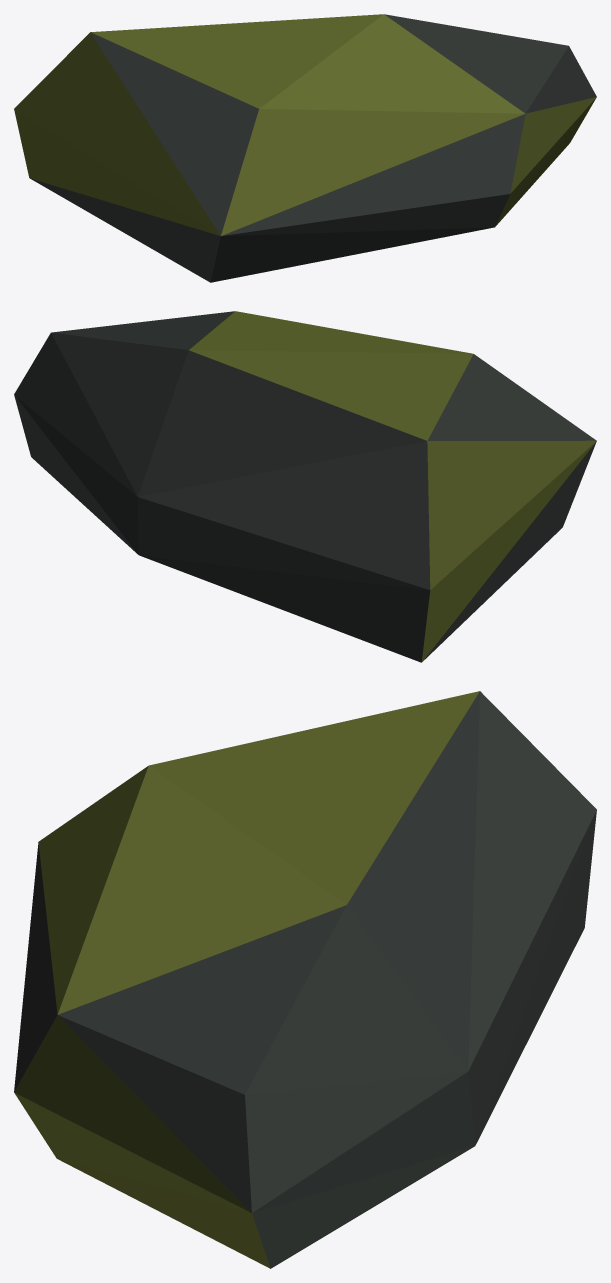
The model's file is ore_uranium_v02_lod2.glb.
3 renders of one model, top to bottom at view 1: azimuth 30°, elevation 25°; view 2: azimuth 150°, elevation 25°; view 3: azimuth 270°, elevation 25°, orthographic. The views are drawn at different scales.
Parts seen in each view (by area): view 1: ore_uranium_v02_lod2; view 2: ore_uranium_v02_lod2; view 3: ore_uranium_v02_lod2.
Part boxes in pixels (x1,y1,x2,y2): ore_uranium_v02_lod2: (14,14,596,282); ore_uranium_v02_lod2: (14,311,596,662); ore_uranium_v02_lod2: (14,691,596,1268).
Bounding box in the file's own units: 2.37 × 0.7801 × 1.59.
